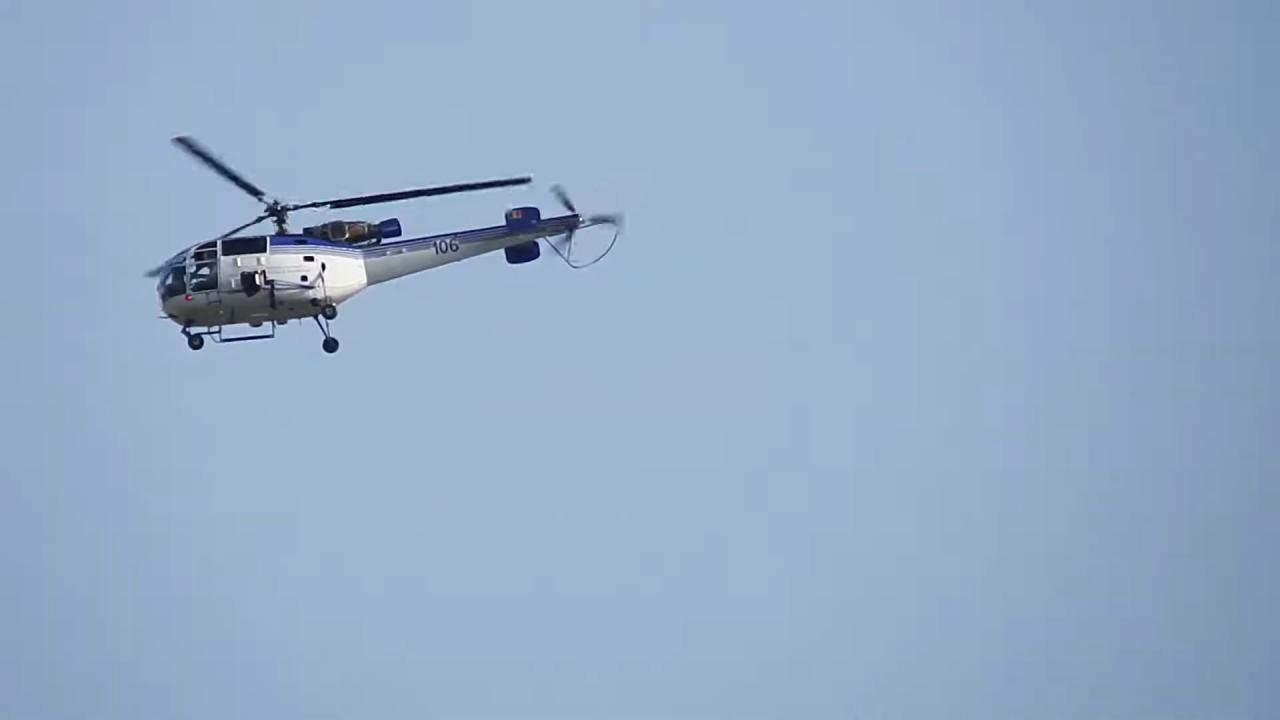Helicopter: (130, 123, 639, 365)
